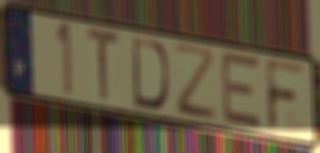1: (54, 20, 75, 102)
D: (131, 34, 171, 113)
E: (221, 49, 263, 132)
F: (264, 56, 308, 136)
T: (85, 25, 122, 106)
Z: (171, 42, 220, 125)
